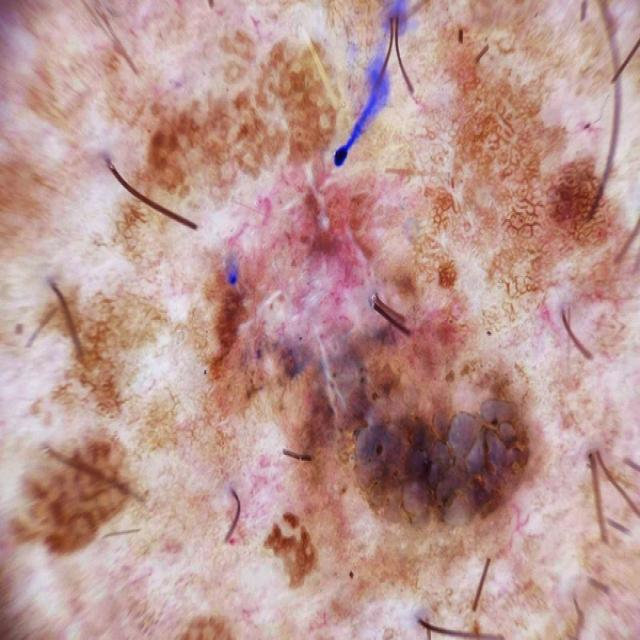Basal-Cell-Carcinoma-BCC-: (32, 50, 592, 574)
